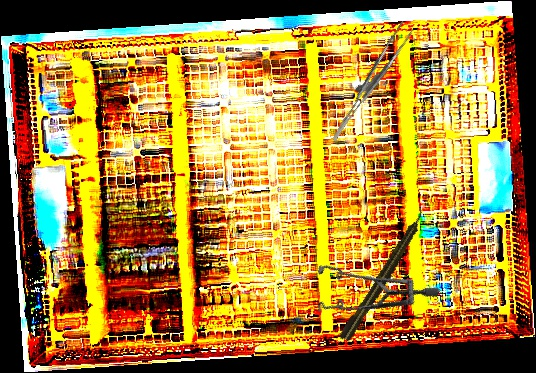Handpiece: (337, 205, 431, 345)
Speculum: (298, 225, 441, 362)
Tissue Forceps: (313, 20, 425, 142)
